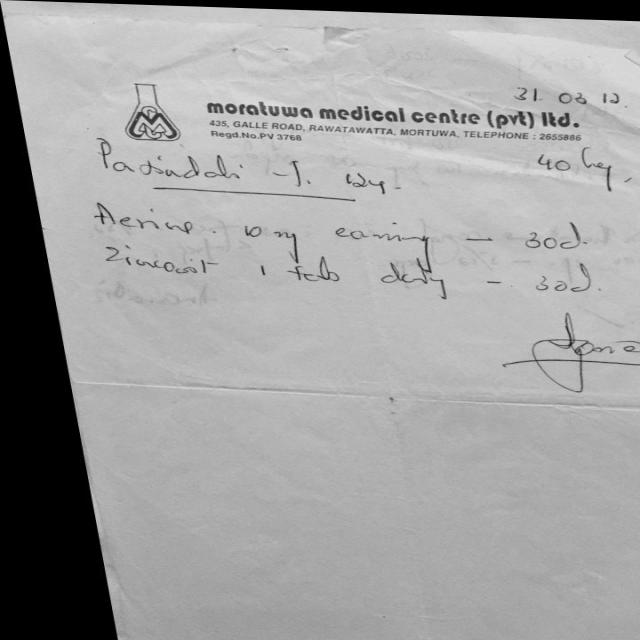Prescription: (77, 198, 587, 258), (84, 241, 588, 293)
